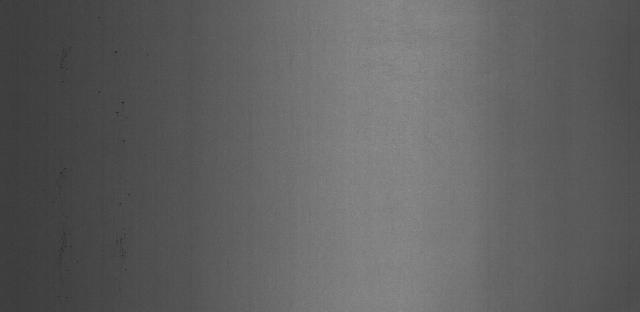inclusion: (96, 206, 138, 280), (47, 27, 94, 86), (111, 98, 134, 152)
